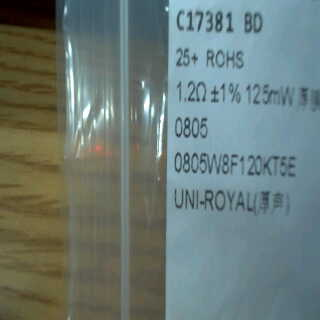1.2R: (175, 74, 209, 144)
